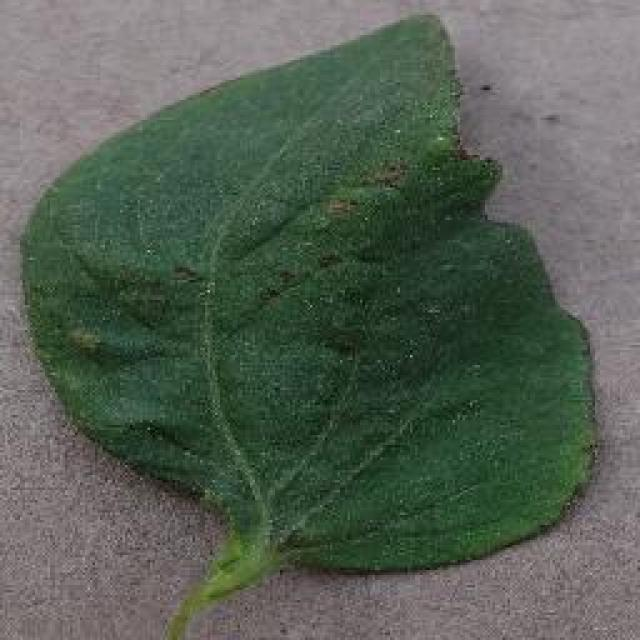Tom_Bacterial_spot: (314, 116, 450, 238), (158, 226, 226, 312)
